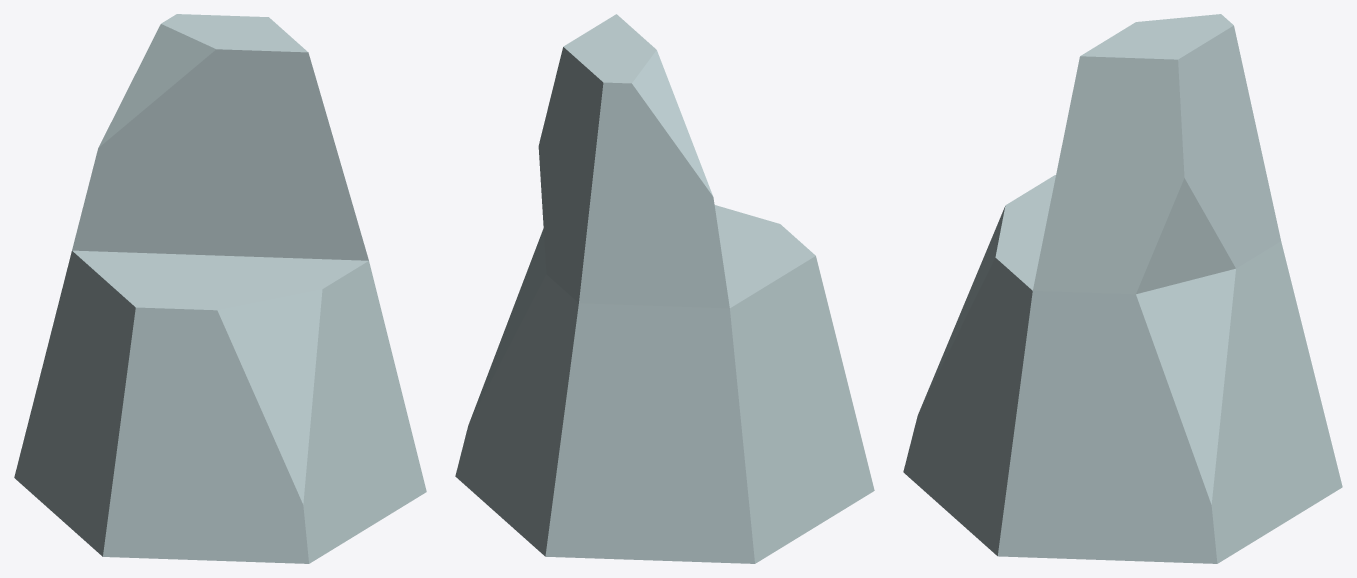
3 views of the same model, side by side, from view 1: azimuth 30°, elevation 25°; view 2: azimuth 150°, elevation 25°; view 3: azimuth 270°, elevation 25° (orthographic). The views are drawn at different scales.
Visible parts, largest first — view 1: stone_tallJ; view 2: stone_tallJ; view 3: stone_tallJ.
Part boxes in pixels (box(x1,y1,x2,y2)): stone_tallJ: box(14, 14, 426, 563); stone_tallJ: box(455, 14, 874, 563); stone_tallJ: box(903, 14, 1342, 563).
Bounding box in the file's own units: 0.4879 × 0.62 × 0.5382.
